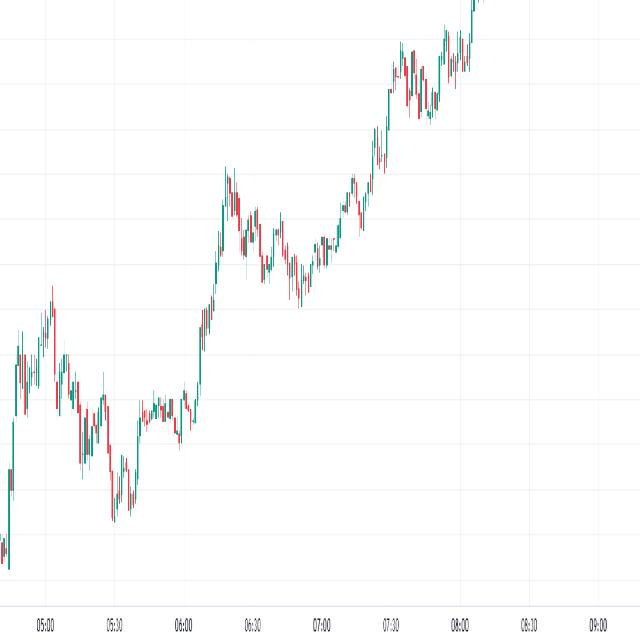Ascending-Triangle: (383, 25, 496, 211)
Channel-down: (205, 156, 307, 320)
Double-Bottom: (106, 435, 143, 533)
Head-Shoulders: (7, 277, 85, 455)
